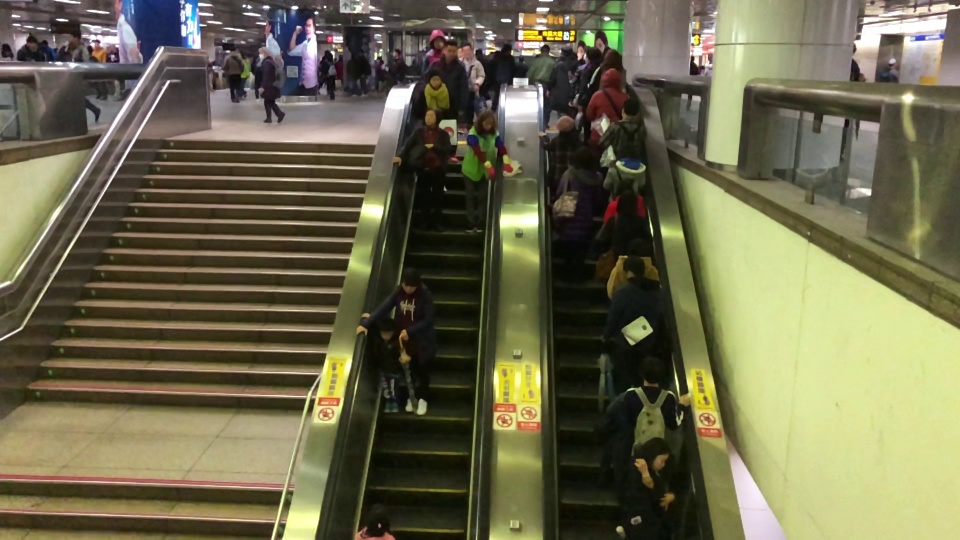person_head: (643, 437, 672, 472), (364, 503, 393, 531), (639, 355, 665, 384), (615, 189, 639, 217), (400, 266, 422, 295), (568, 146, 595, 169), (599, 66, 622, 89), (554, 114, 577, 135), (477, 109, 497, 132), (618, 139, 641, 159), (625, 236, 648, 256), (622, 256, 645, 276), (378, 318, 395, 341), (422, 107, 442, 126), (620, 97, 639, 117), (614, 180, 634, 197), (442, 39, 458, 59), (602, 49, 622, 64), (430, 29, 443, 48), (429, 70, 441, 87), (586, 48, 600, 62), (461, 43, 473, 59), (560, 44, 573, 57), (25, 35, 37, 49), (69, 30, 81, 43), (258, 46, 269, 59), (501, 42, 512, 53), (2, 43, 12, 55), (887, 56, 897, 68), (540, 43, 550, 54), (391, 47, 401, 57), (852, 41, 857, 54), (228, 44, 237, 51), (94, 38, 100, 47), (324, 50, 331, 57), (519, 54, 523, 62), (690, 54, 694, 61)
person_vbox: (354, 264, 439, 417), (602, 256, 667, 395), (616, 355, 691, 456), (392, 106, 452, 232), (619, 437, 687, 540), (553, 144, 603, 284), (460, 108, 513, 235), (425, 38, 468, 162), (415, 69, 456, 191), (356, 312, 400, 414), (537, 113, 585, 193), (598, 189, 652, 260), (606, 236, 660, 303), (64, 30, 102, 121), (598, 96, 648, 164), (585, 66, 629, 143), (838, 40, 861, 165), (602, 139, 647, 200), (527, 43, 556, 130), (257, 46, 287, 125), (460, 43, 485, 132), (604, 180, 645, 224), (549, 43, 574, 114), (490, 42, 515, 111), (587, 48, 622, 92), (222, 43, 244, 101), (91, 37, 109, 100), (422, 28, 444, 72), (686, 52, 700, 111), (322, 49, 338, 100), (17, 35, 45, 63), (388, 48, 406, 85), (877, 55, 898, 82), (518, 54, 527, 75), (704, 60, 713, 76)
